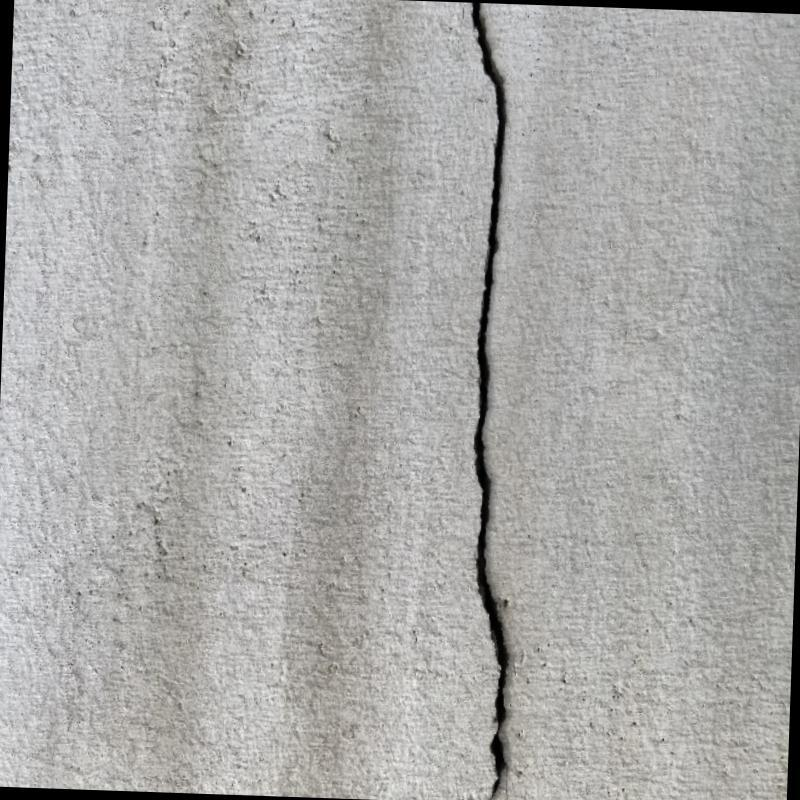pothole: (468, 4, 511, 800)
